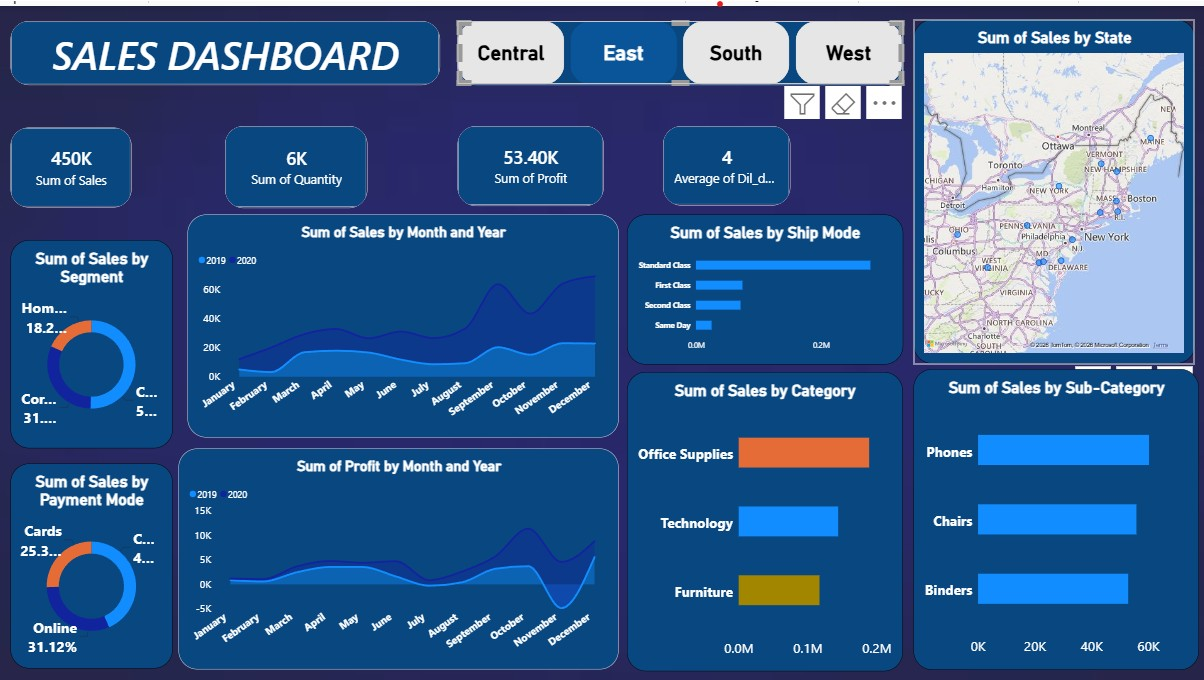

Layout of this report page (visuals, bound fields, positions):
{"tool":"powerbi","page":{"name":"Page 1","canvas":[1920,1080],"ordinal":0},"visuals":[{"type":"map","title":"Sum of Sales by State","fields":{"Category":["SuperStore_Sales_Dataset (1).State"]},"box":[1452.5,21.8,447.9,547.4],"z":0},{"type":"barChart","fields":{"Category":["SuperStore_Sales_Dataset (1).Sub-Category"],"Y":["Sum(SuperStore_Sales_Dataset (1).Sales)"]},"box":[1452.5,578.5,454.1,479],"z":1000},{"type":"barChart","fields":{"Category":["SuperStore_Sales_Dataset (1).Category"],"Y":["Sum(SuperStore_Sales_Dataset (1).Sales)"]},"box":[998.4,581.6,438.5,475.9],"z":2000},{"type":"barChart","fields":{"Category":["SuperStore_Sales_Dataset (1).Ship Mode"],"Y":["Sum(SuperStore_Sales_Dataset (1).Sales)"]},"box":[997.3,331.6,439,238.6],"z":3000},{"type":"cardVisual","fields":{"Data":["Sum(SuperStore_Sales_Dataset (1).Sales)"]},"box":[17,192.8,192.8,127.5],"z":4000},{"type":"cardVisual","fields":{"Data":["Sum(SuperStore_Sales_Dataset (1).Quantity)"]},"box":[357.2,189.9,226.8,130.4],"z":5000},{"type":"cardVisual","fields":{"Data":["Sum(SuperStore_Sales_Dataset (1).Profit)"]},"box":[728.5,189.9,232.4,127.6],"z":6000},{"type":"donutChart","fields":{"Category":["SuperStore_Sales_Dataset (1).Segment"],"Y":["Sum(SuperStore_Sales_Dataset (1).Sales)"]},"box":[17,371.3,258,331.7],"z":7000},{"type":"stackedAreaChart","title":"Sum of Sales by Month and Year","fields":{"Category":["SuperStore_Sales_Dataset (1).Order Date.Variation.Date Hierarchy.Month"],"Series":["SuperStore_Sales_Dataset (1).Order Date.Variation.Date Hierarchy.Year"],"Y":["Sum(SuperStore_Sales_Dataset (1).Sales)"]},"box":[297.6,331.7,686,354.3],"z":8000},{"type":"donutChart","fields":{"Category":["SuperStore_Sales_Dataset (1).Payment Mode"],"Y":["Sum(SuperStore_Sales_Dataset (1).Sales)"]},"box":[17,728.5,258,326],"z":9000},{"type":"stackedAreaChart","fields":{"Category":["SuperStore_Sales_Dataset (1).Order Date.Variation.Date Hierarchy.Month"],"Series":["SuperStore_Sales_Dataset (1).Order Date.Variation.Date Hierarchy.Year"],"Y":["Sum(SuperStore_Sales_Dataset (1).Profit)"]},"box":[283.5,703,700.2,351.5],"z":10000},{"type":"cardVisual","fields":{"Data":["SuperStore_Sales_Dataset (1).Display_text"]},"box":[17,22.7,683.2,102],"z":11000},{"type":"advancedSlicerVisual","fields":{"Values":["SuperStore_Sales_Dataset (1).Region"]},"box":[728.5,22.7,708.7,102],"z":12000},{"type":"cardVisual","fields":{"Data":["Avg(SuperStore_Sales_Dataset_.Dil_date)"]},"box":[1054.6,190.9,202.8,126.5],"z":12001}]}

Visuals, with their boxes in screenshot pixels (x1, y1, x2, y2), scaled from the page's 1920x1080 canvas onto the 1204x680 screenshot:
"Sum of Sales by State" map: region(911, 14, 1192, 358)
barChart - SuperStore_Sales_Dataset (1).Sub-Category x Sum(SuperStore_Sales_Dataset (1).Sales): region(911, 364, 1196, 666)
barChart - SuperStore_Sales_Dataset (1).Category x Sum(SuperStore_Sales_Dataset (1).Sales): region(626, 366, 901, 666)
barChart - SuperStore_Sales_Dataset (1).Ship Mode x Sum(SuperStore_Sales_Dataset (1).Sales): region(625, 209, 901, 359)
cardVisual - Sum(SuperStore_Sales_Dataset (1).Sales): region(11, 121, 132, 202)
cardVisual - Sum(SuperStore_Sales_Dataset (1).Quantity): region(224, 120, 366, 202)
cardVisual - Sum(SuperStore_Sales_Dataset (1).Profit): region(457, 120, 603, 200)
donutChart - SuperStore_Sales_Dataset (1).Segment x Sum(SuperStore_Sales_Dataset (1).Sales): region(11, 234, 172, 443)
"Sum of Sales by Month and Year" stackedAreaChart: region(187, 209, 617, 432)
donutChart - SuperStore_Sales_Dataset (1).Payment Mode x Sum(SuperStore_Sales_Dataset (1).Sales): region(11, 459, 172, 664)
stackedAreaChart - SuperStore_Sales_Dataset (1).Order Date.Variation.Date Hierarchy.Month x SuperStore_Sales_Dataset (1).Order Date.Variation.Date Hierarchy.Year: region(178, 443, 617, 664)
cardVisual - SuperStore_Sales_Dataset (1).Display_text: region(11, 14, 439, 79)
advancedSlicerVisual - SuperStore_Sales_Dataset (1).Region: region(457, 14, 901, 79)
cardVisual - Avg(SuperStore_Sales_Dataset_.Dil_date): region(661, 120, 788, 200)
